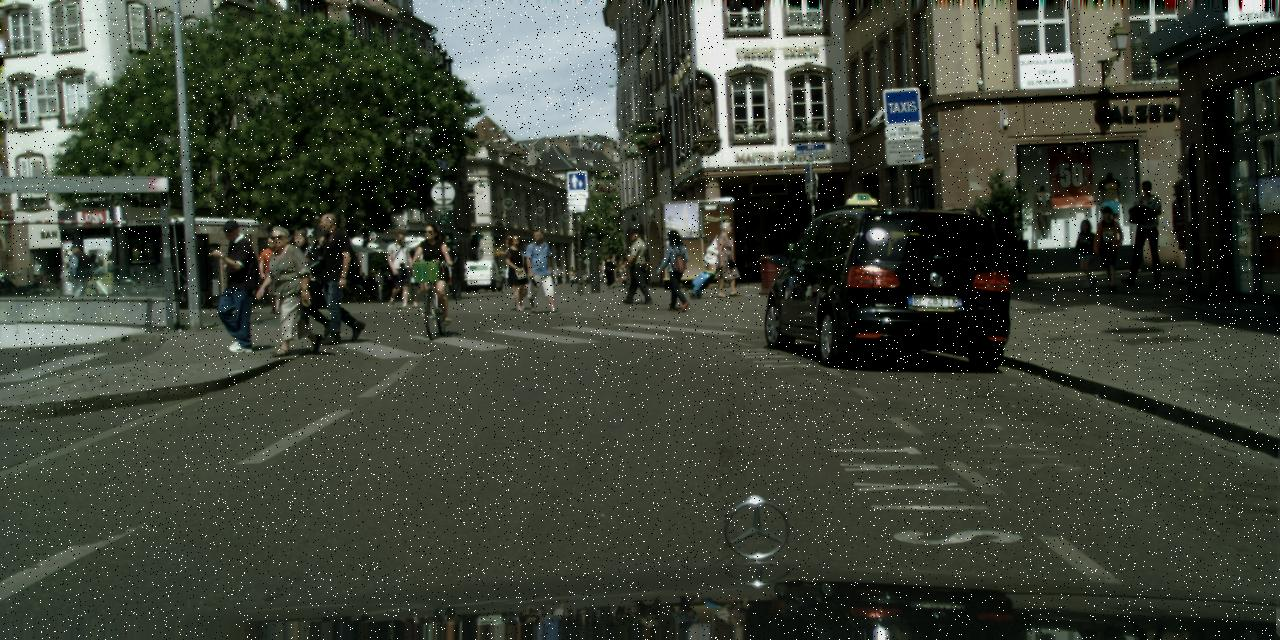ped: (208, 220, 263, 352), (260, 224, 313, 356), (310, 212, 362, 340), (286, 228, 331, 338), (1124, 178, 1167, 284), (1160, 177, 1203, 282), (413, 224, 451, 318), (523, 228, 558, 314), (1092, 206, 1126, 290), (659, 230, 692, 310), (502, 234, 534, 310), (257, 236, 288, 313), (384, 232, 415, 308), (619, 228, 650, 304), (712, 222, 742, 296), (1073, 218, 1101, 287), (61, 244, 88, 311), (407, 242, 433, 306), (498, 238, 522, 298), (604, 260, 616, 288), (498, 265, 508, 289), (555, 265, 563, 284), (567, 267, 575, 285), (548, 267, 554, 283), (615, 268, 621, 282)
